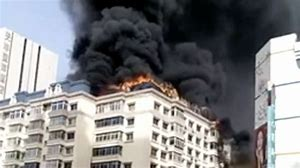smoke: (59, 1, 252, 82)
